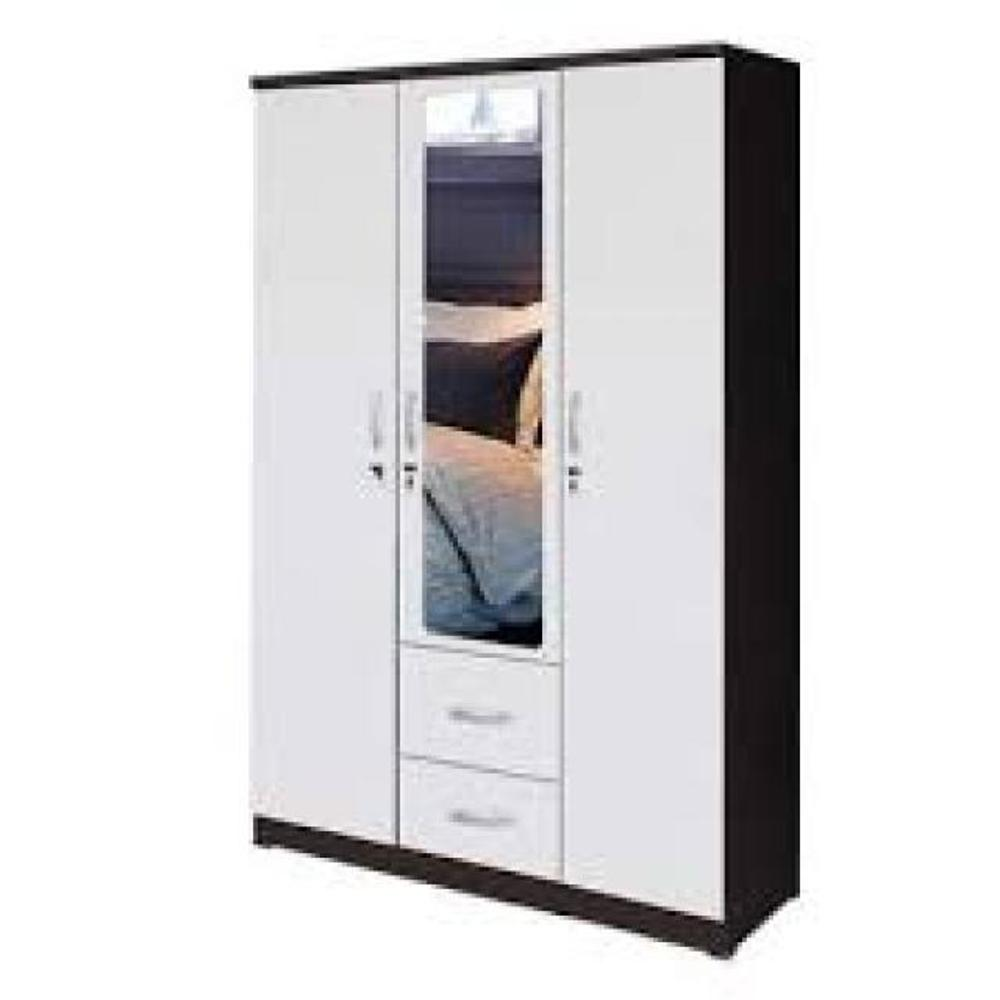cabinet: (248, 31, 809, 961)
